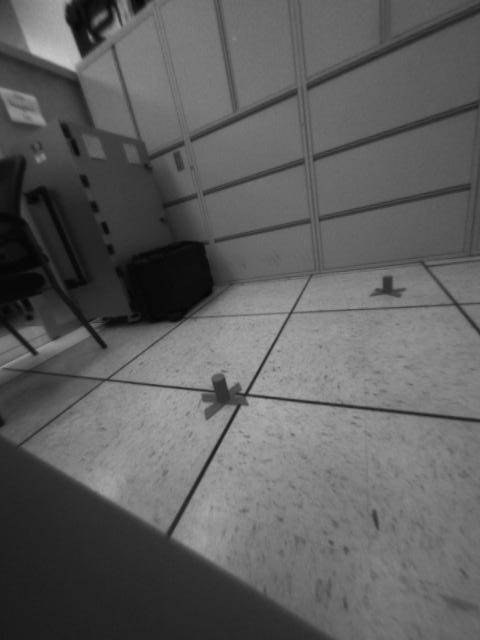X: (200, 369, 249, 420), (369, 274, 407, 298)
